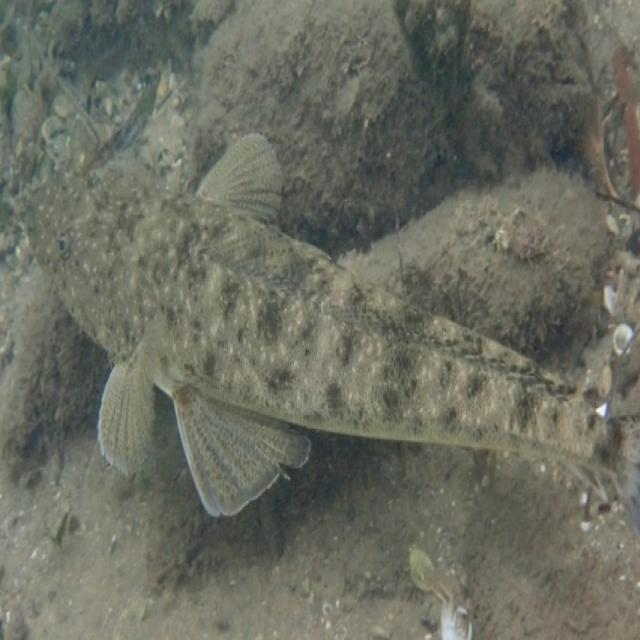Flathead: (24, 127, 640, 540)
